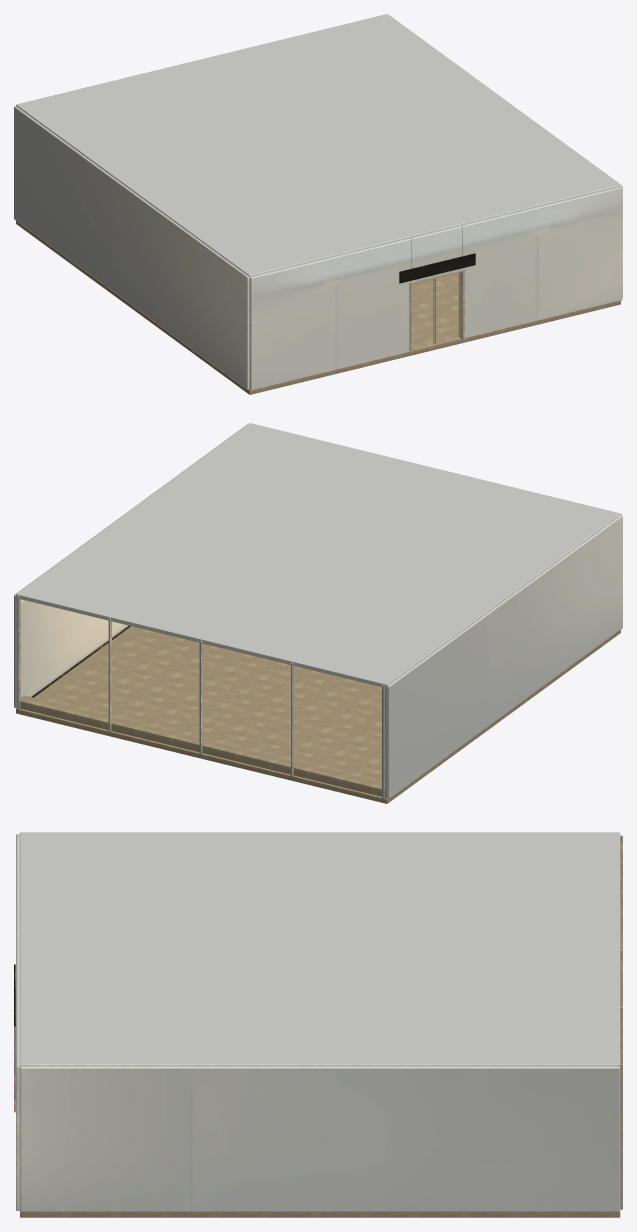
File: room-shell.glb
3 renders of one model, top to bottom at view 1: azimuth 30°, elevation 25°; view 2: azimuth 150°, elevation 25°; view 3: azimuth 270°, elevation 25°, orthographic. The views are drawn at different scales.
Visible parts, largest first — view 1: Baked_vision architecture; view 2: Baked_vision architecture; view 3: Baked_vision architecture.
Part boxes in pixels (<box>): Baked_vision architecture: <box>14,14,622,394</box>; Baked_vision architecture: <box>14,423,622,803</box>; Baked_vision architecture: <box>14,832,622,1217</box>.
Size of the model in its own units: 22.26 by 6.77 by 24.35.
8 materials, 2 textured.
